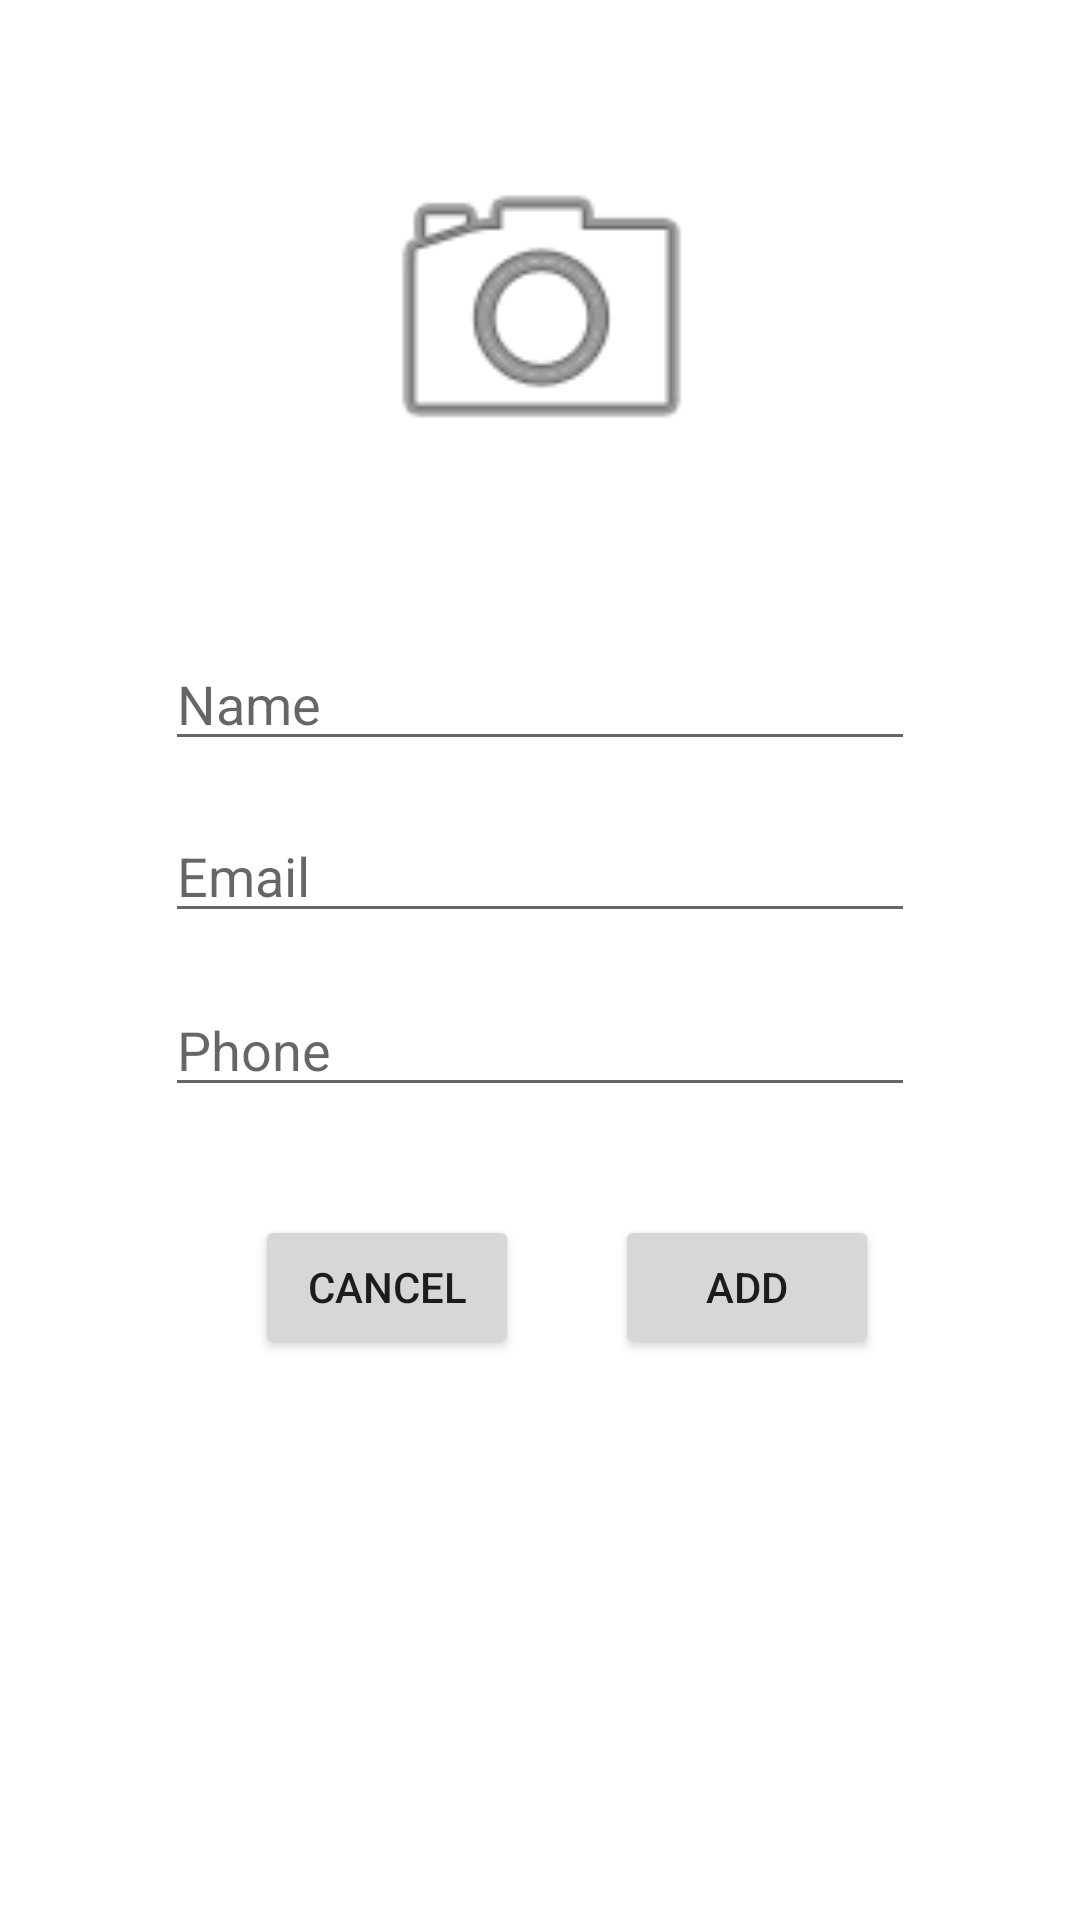

Where to tap for icons on this 1080px×1920px app screen, as (x,y):
camera: (541,306)
